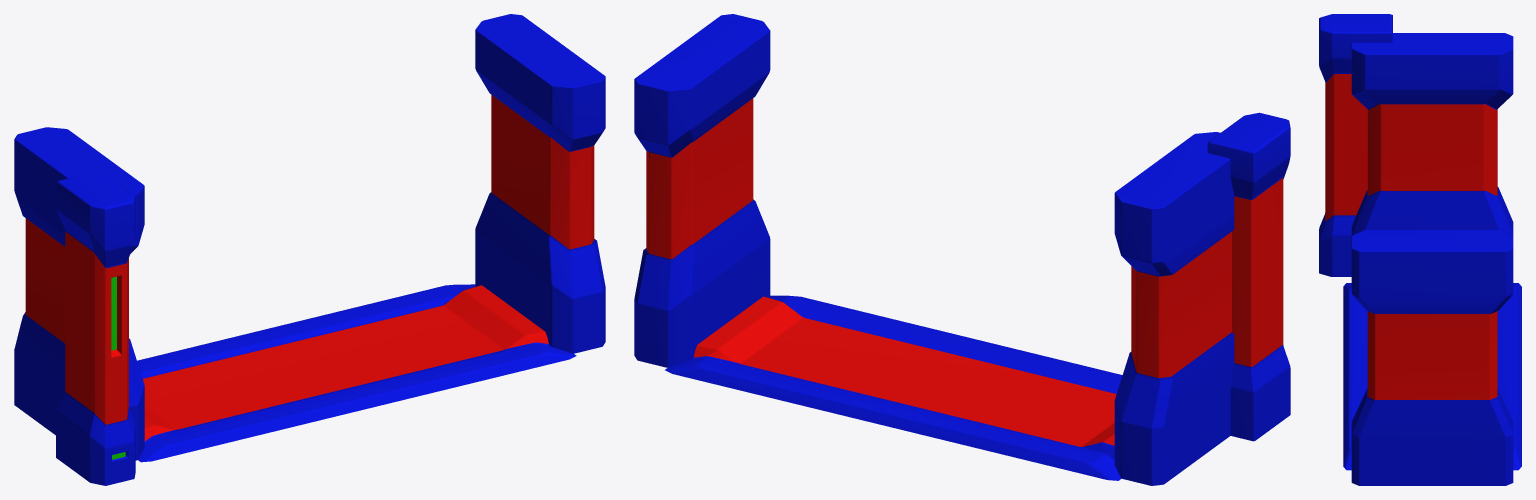
File: DoorBot.fbx
3 renders of one model, left to right at view 1: azimuth 30°, elevation 25°; view 2: azimuth 150°, elevation 25°; view 3: azimuth 270°, elevation 25°, orthographic. The views are drawn at different scales.
Parts seen in each view (by area): view 1: DoorBot; view 2: DoorBot; view 3: DoorBot.
Boxes of the visible parts, box(x1,y1,x2,y2) form: DoorBot: box(14, 14, 605, 485); DoorBot: box(634, 14, 1290, 485); DoorBot: box(1319, 14, 1521, 485).
Bounding box in the file's own units: 1045 × 521 × 392.
